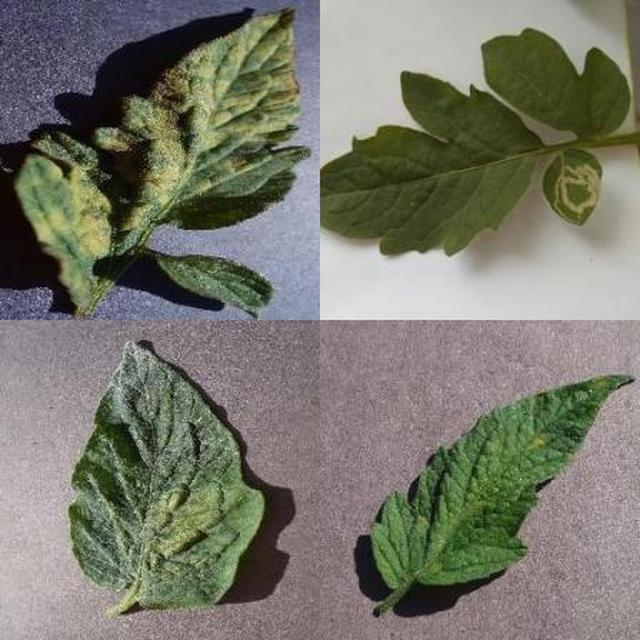Leaf Mold: (90, 110, 640, 640)
